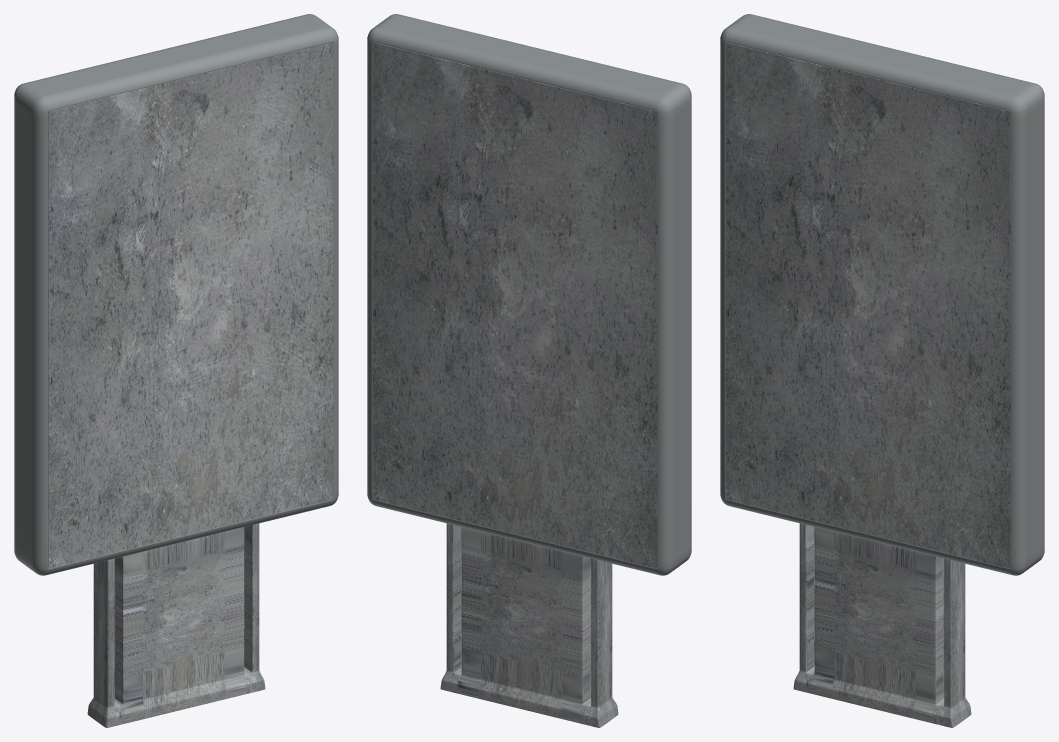
The model's file is banner_c.gltf.
3 views of the same model, side by side, from view 1: azimuth 30°, elevation 25°; view 2: azimuth 150°, elevation 25°; view 3: azimuth 330°, elevation 25° (orthographic).
Visible parts, largest first — view 1: imageContainer.002, body.001; view 2: imageContainer.002, body.001; view 3: imageContainer.002, body.001.
Boxes of the visible parts, bbox=[...] form: imageContainer.002: bbox=[48, 42, 333, 568]; body.001: bbox=[14, 14, 338, 727]; imageContainer.002: bbox=[372, 42, 657, 568]; body.001: bbox=[367, 14, 691, 727]; imageContainer.002: bbox=[725, 42, 1010, 568]; body.001: bbox=[720, 14, 1044, 727].
Size of the model in its own units: 78.97 by 160 by 13.16.
Materials: 1 (1 with a texture image).
